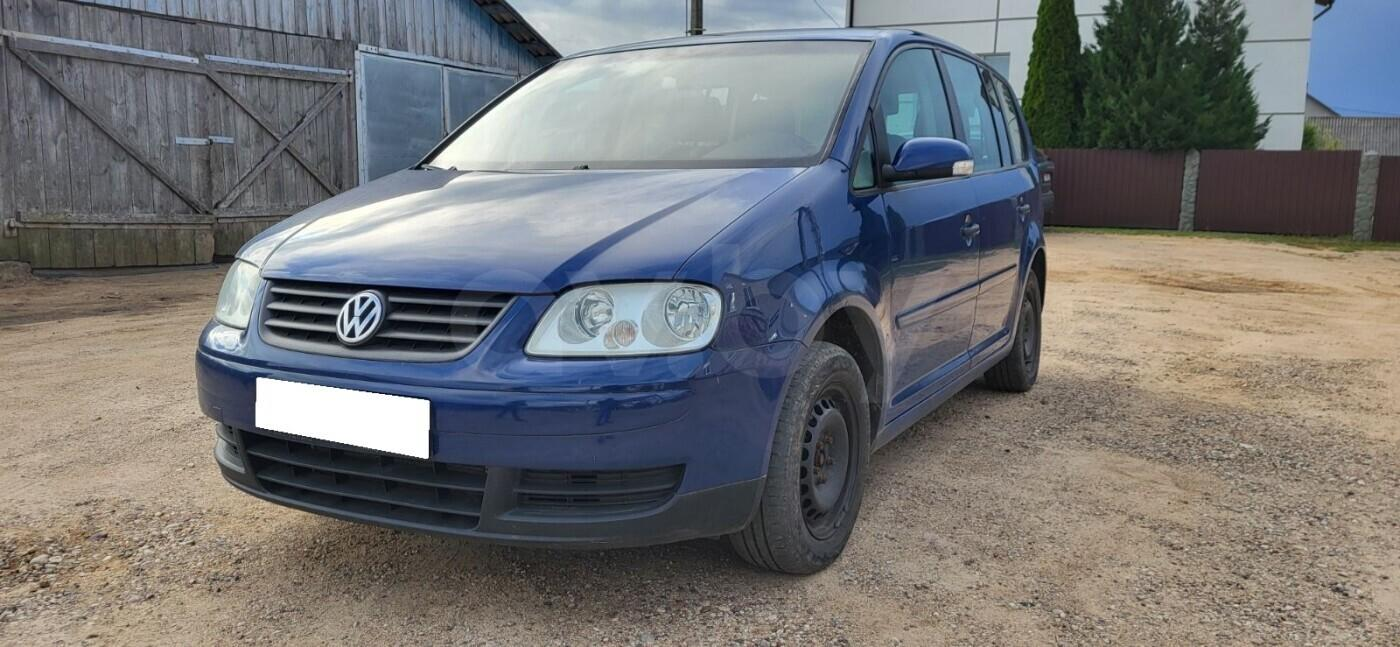Touran_2003-2006: (210, 31, 1050, 570)
